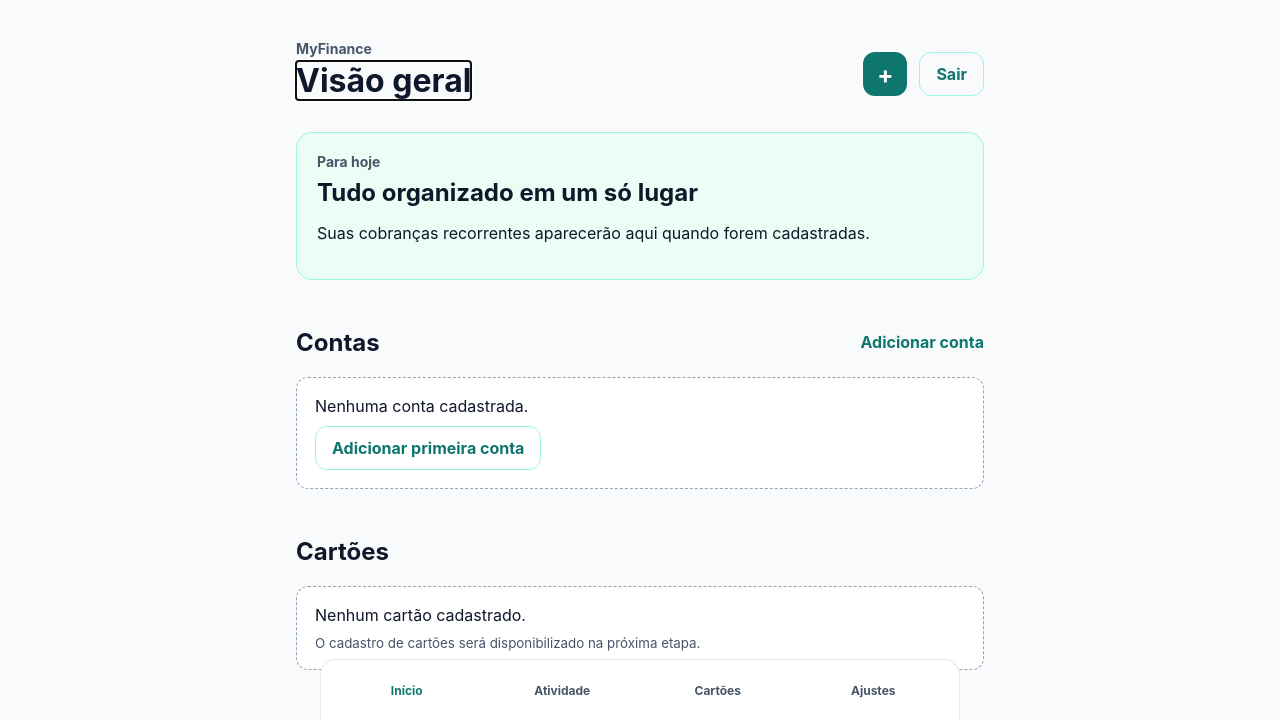
Test case: Finance home data › creates the first checking account with an optional institution and opening balance
Click the button "Adicionar primeira conta": (428, 448) top-left (315, 426), bottom-right (541, 470)
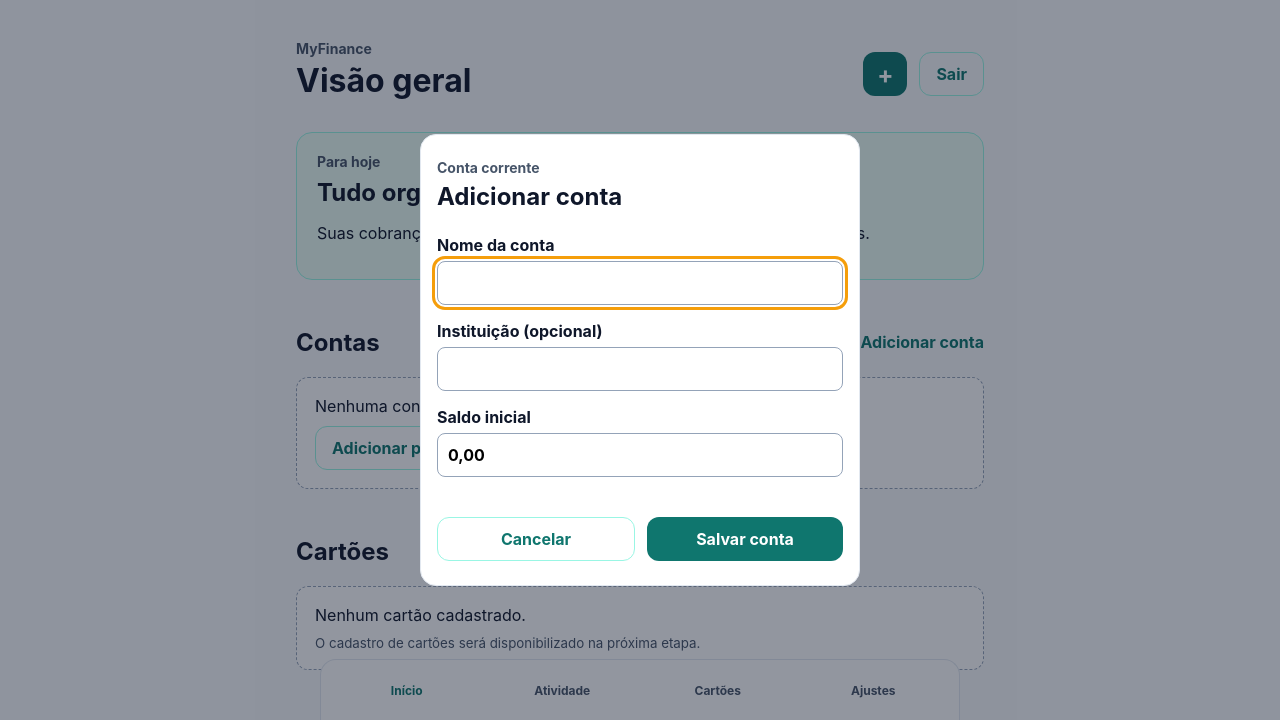
In the field labelled "Nome da conta": (640, 283) top-left (437, 261), bottom-right (843, 305), type "Conta principal"
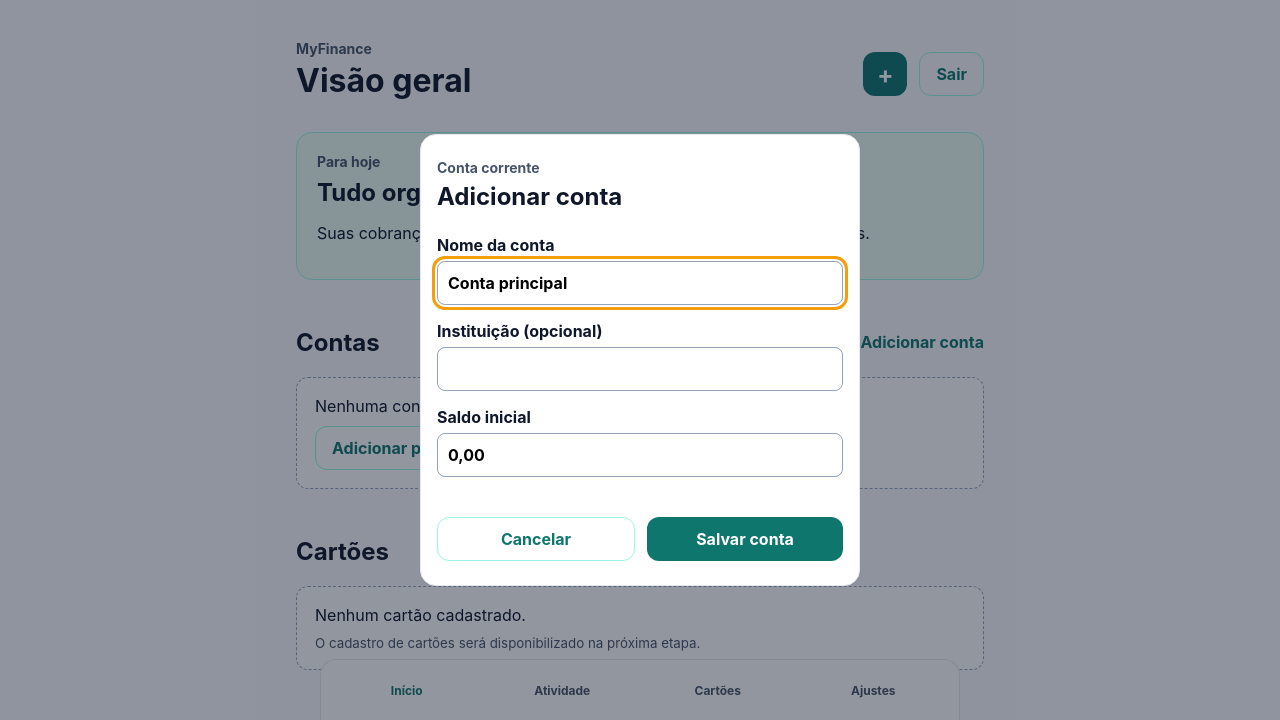
In the field labelled "Instituição (opcional)": (640, 369) top-left (437, 347), bottom-right (843, 391), type "Banco local"
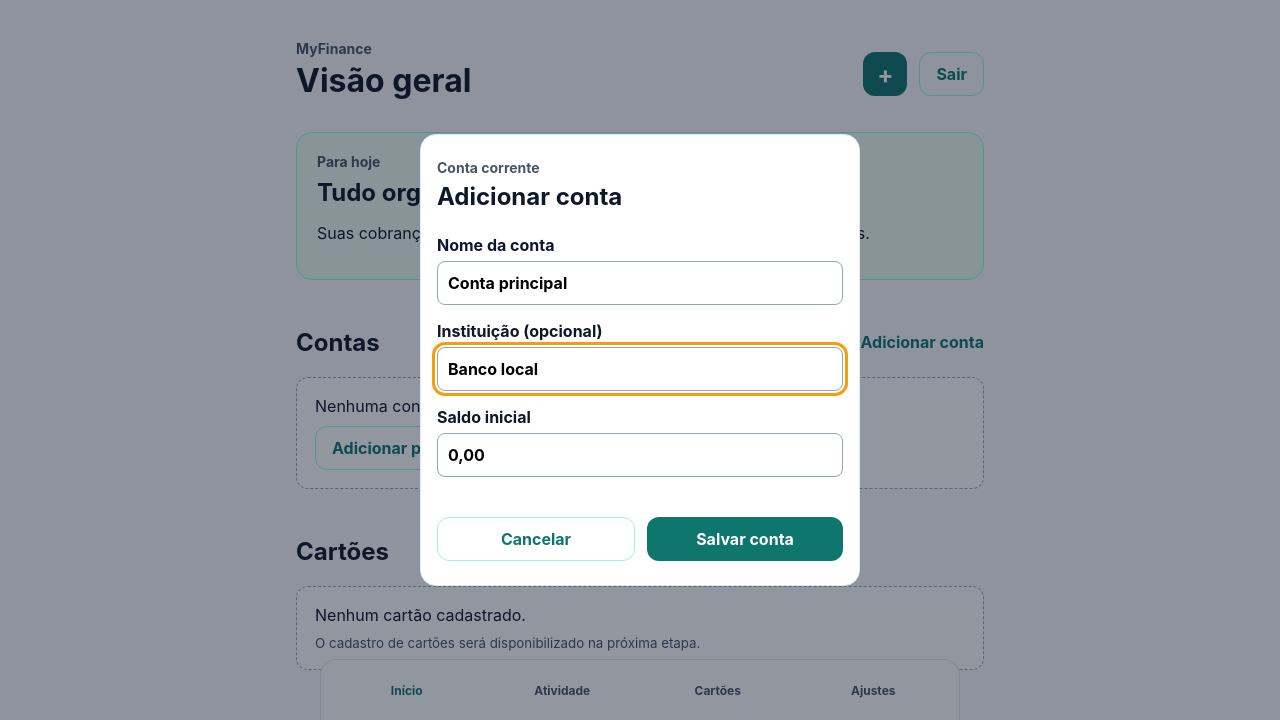
Replace the text in the field labelled "Saldo inicial" with "1250,75": (640, 455) top-left (437, 433), bottom-right (843, 477)
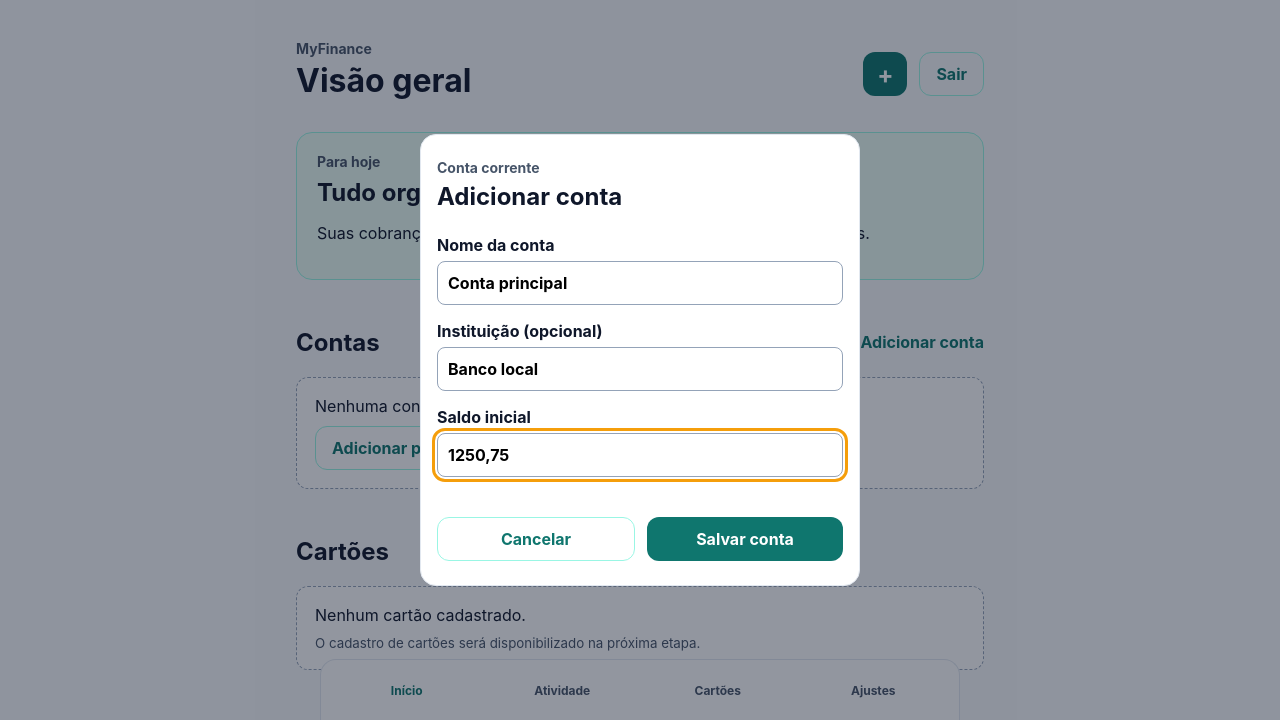
Click the button "Salvar conta": (745, 539) top-left (647, 517), bottom-right (843, 561)
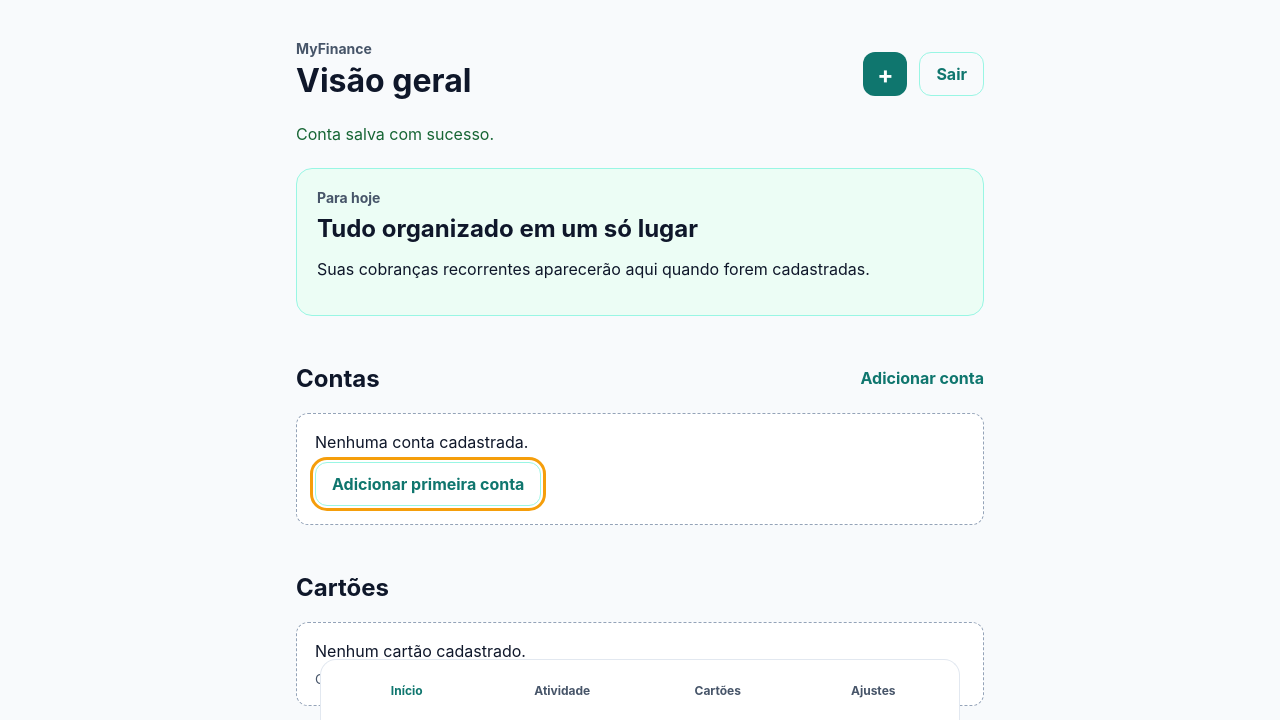
Expected: the message reads "Conta salva com sucesso.", top-left (296, 124), bottom-right (494, 144)
